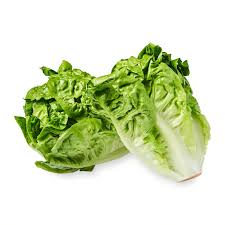Lettuce: (88, 35, 212, 199), (15, 59, 136, 188)
